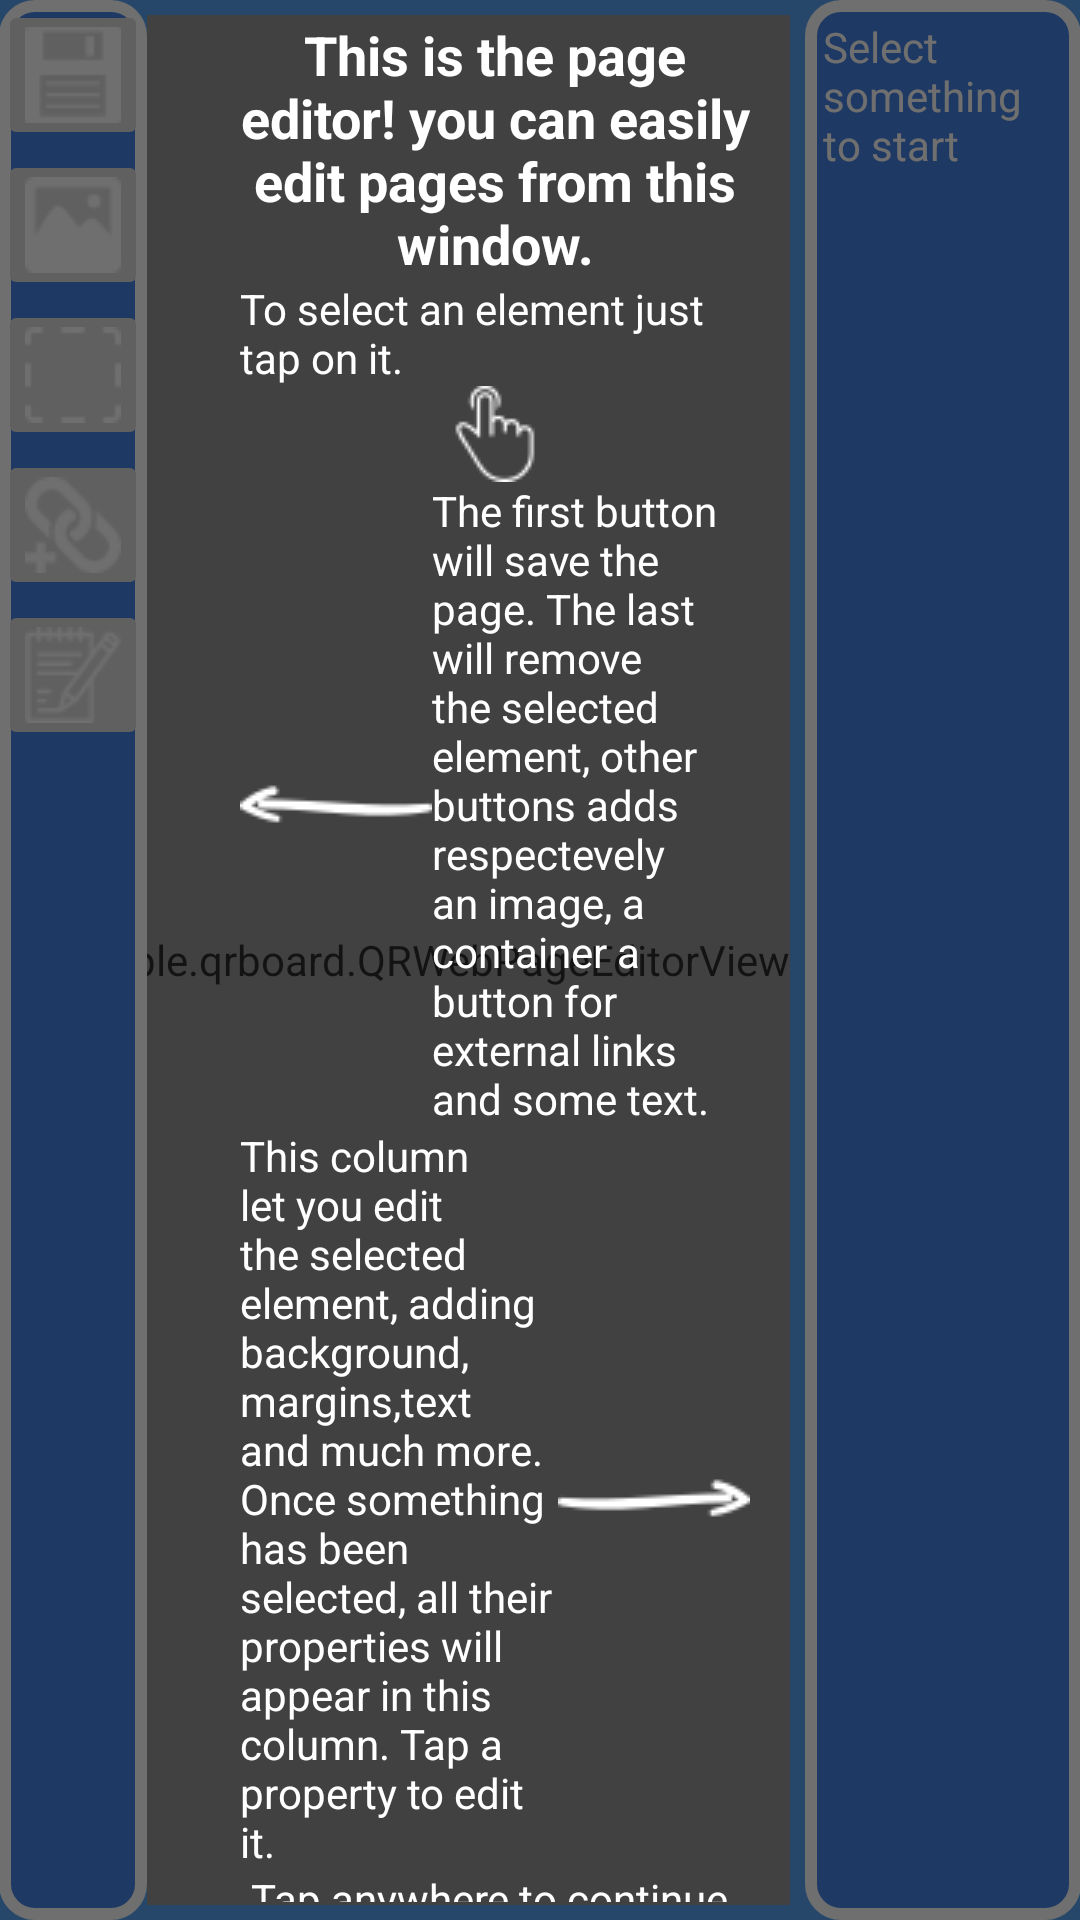

Point at icon controls on the screen. Image size 1080w x 1920h, points as [x,y].
div: [73,375]
ewpsave: [73,75]
